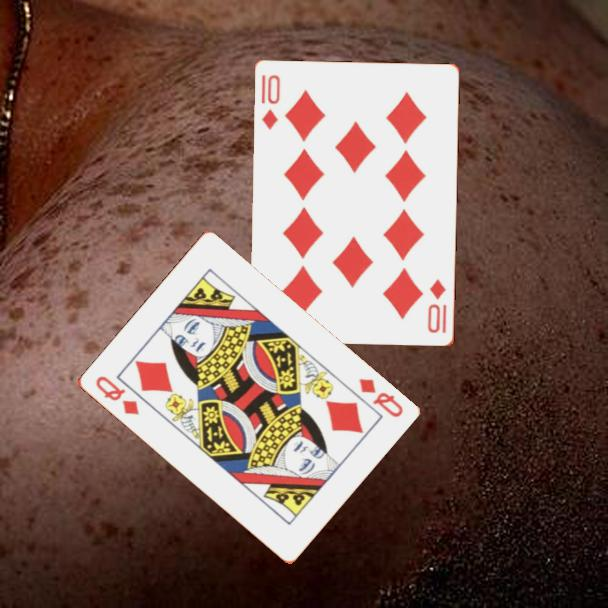d10: (258, 71, 283, 133), (424, 276, 449, 336)
d12: (92, 372, 142, 418), (355, 375, 406, 420)
